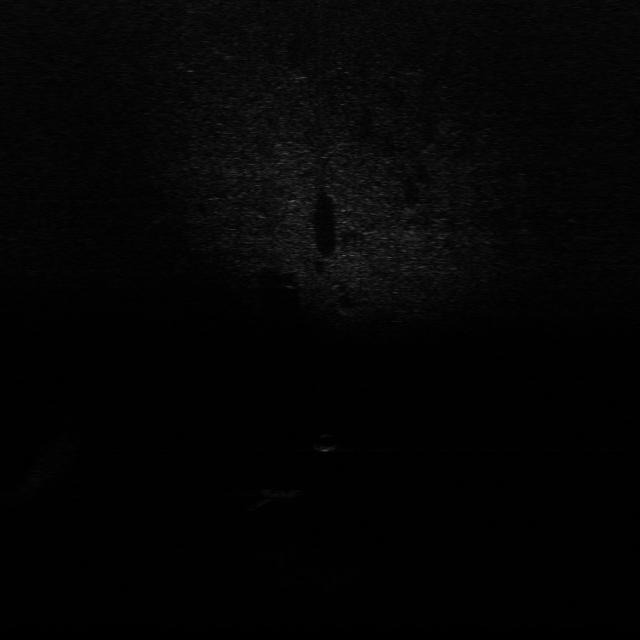ball: (310, 430, 346, 452)
square cage: (257, 482, 308, 502)
